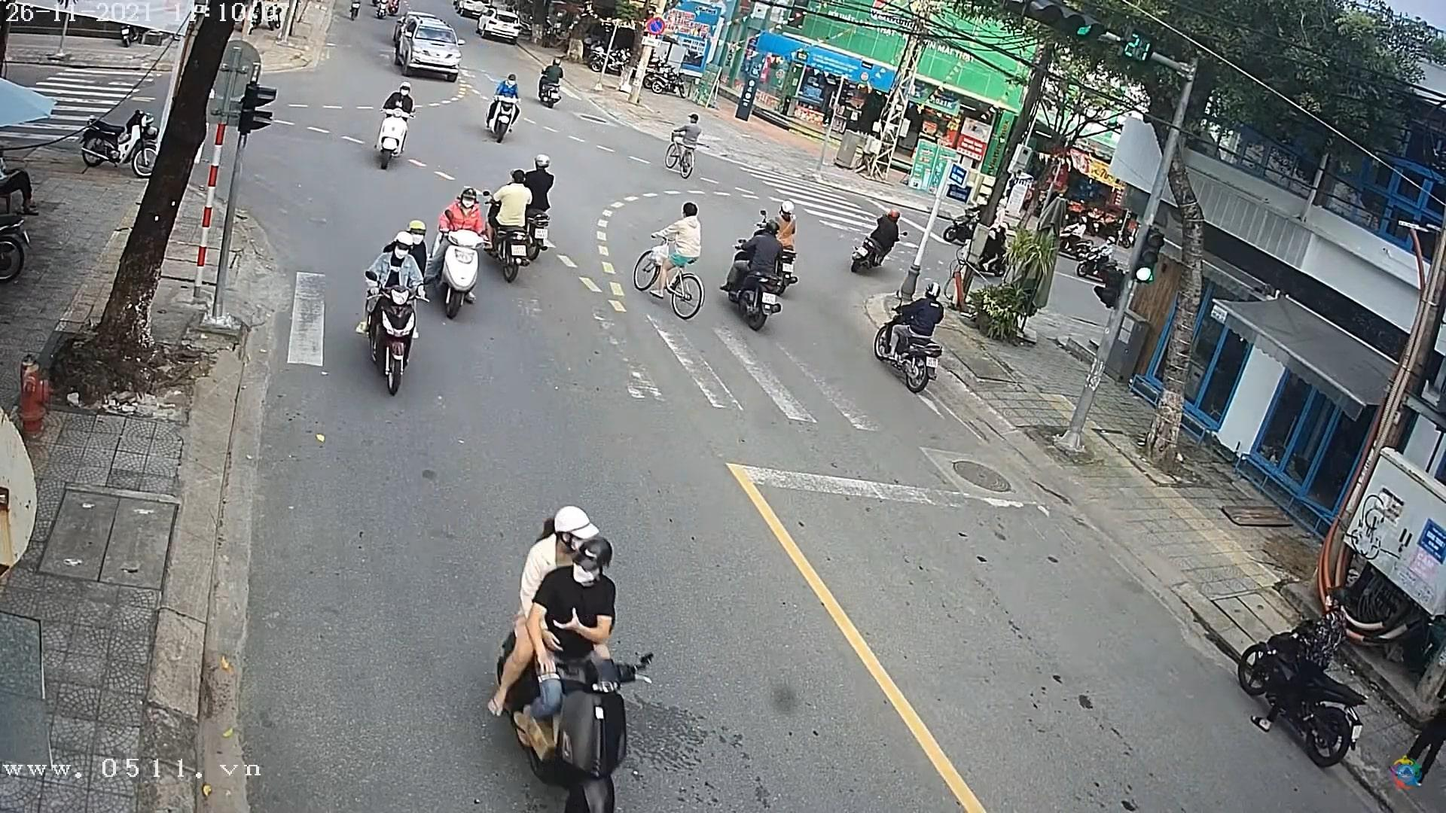car: (393, 17, 468, 81)
motorbike: (477, 614, 664, 812), (358, 269, 432, 398), (425, 217, 486, 327), (479, 89, 530, 148), (374, 100, 412, 170)
